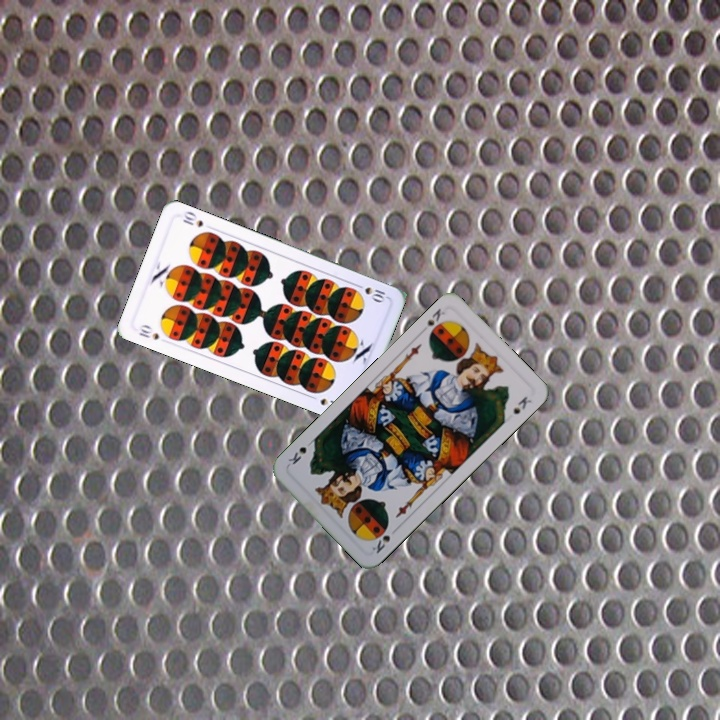S10: (351, 279, 390, 305), (135, 320, 161, 342)
SK: (423, 304, 447, 339), (367, 531, 393, 556)
